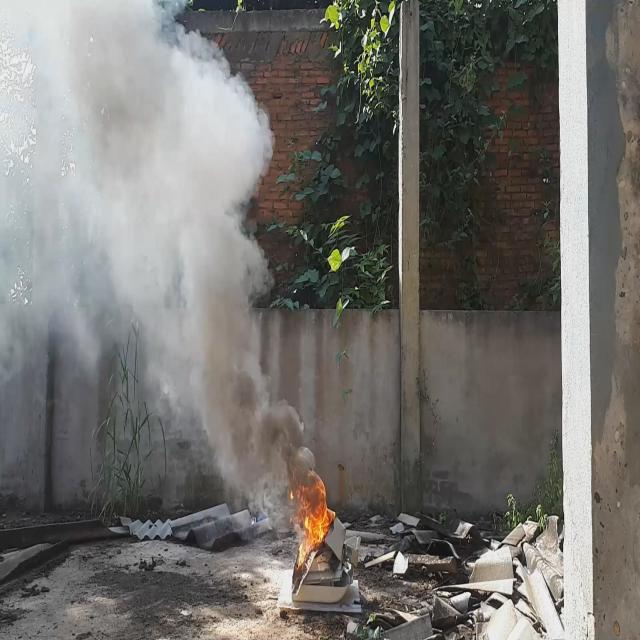Fire: (288, 463, 336, 572)
Smoke: (0, 0, 322, 512)
